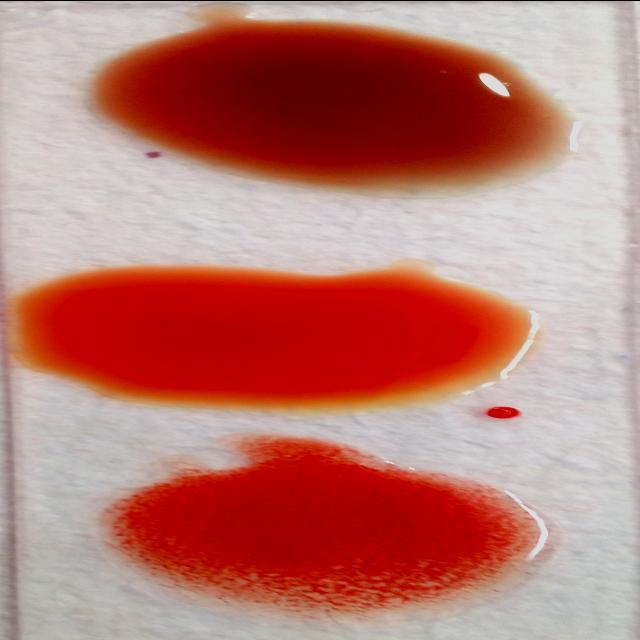D: (102, 468, 542, 609)
